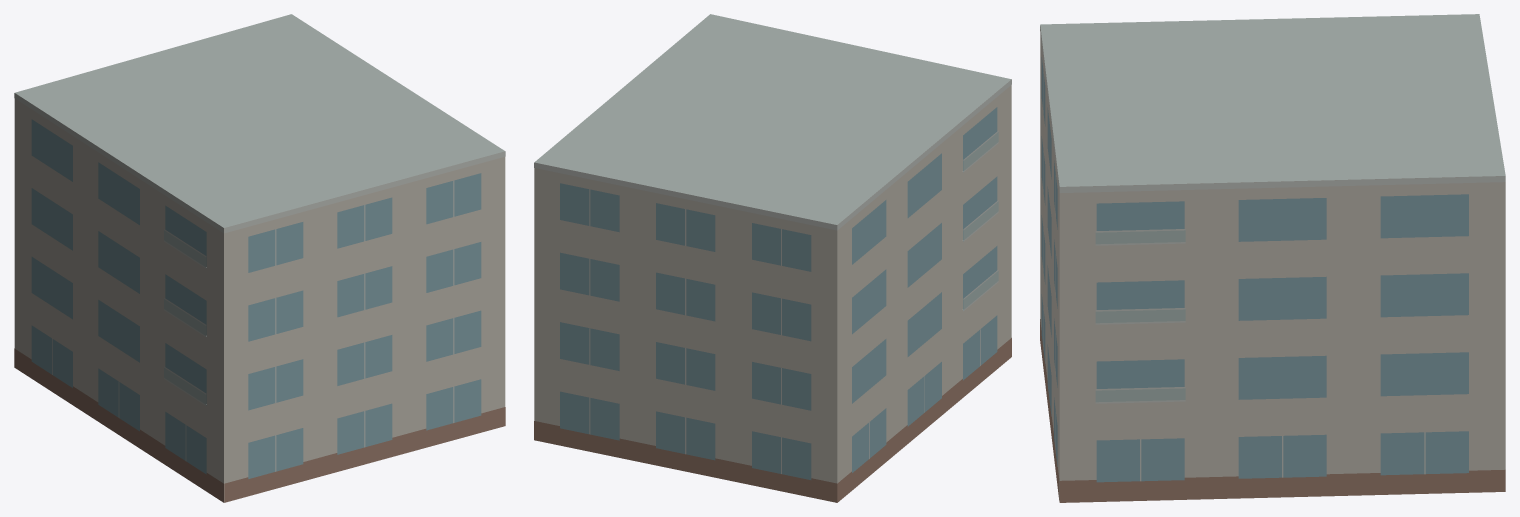
Rendered from survey-upis-32904117.glb.
3 views of the same model, side by side, from view 1: azimuth 30°, elevation 25°; view 2: azimuth 150°, elevation 25°; view 3: azimuth 270°, elevation 25° (orthographic). The views are drawn at different scales.
Parts seen in each view (by area): view 1: survey-upis-32904117.tmp; view 2: survey-upis-32904117.tmp; view 3: survey-upis-32904117.tmp.
Boxes of the visible parts, <box> form: survey-upis-32904117.tmp: <box>14,14,505,502</box>; survey-upis-32904117.tmp: <box>534,14,1011,502</box>; survey-upis-32904117.tmp: <box>1040,14,1505,502</box>.
Size of the model in its own units: 14.57 by 12.4 by 16.57.
